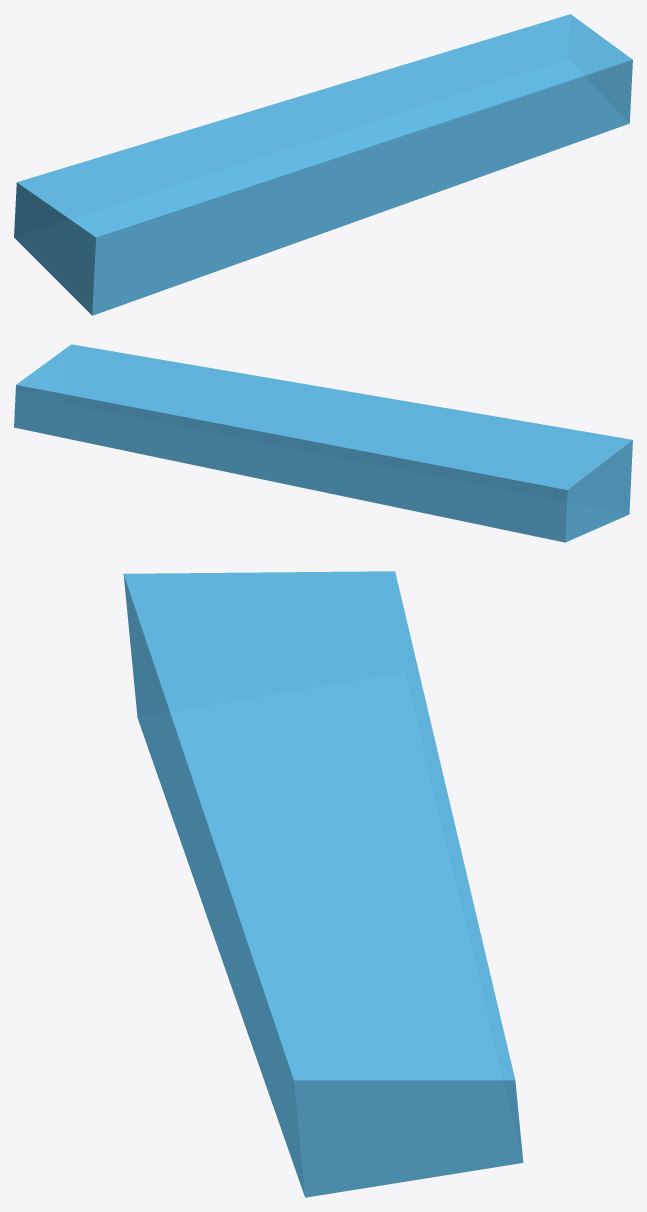
File: Event_420094457_HErechit_85.fbx
The picture shows the model from 3 angles, top to bottom: view 1: azimuth 30°, elevation 25°; view 2: azimuth 150°, elevation 25°; view 3: azimuth 270°, elevation 25°; orthographic projection. The views are drawn at different scales.
Parts seen in each view (by area): view 1: Model; view 2: Model; view 3: Model.
Boxes of the visible parts, left/top/right/bottom form: Model: left=14, top=14, right=632, bottom=315; Model: left=14, top=344, right=632, bottom=542; Model: left=123, top=571, right=523, bottom=1197.
Size of the model in its own units: 2.54 by 0.3356 by 0.8433.
